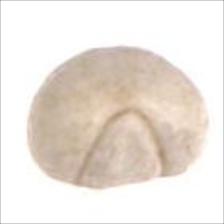L5: (72, 105, 170, 193), (81, 41, 151, 65)
L6: (23, 43, 210, 187)
